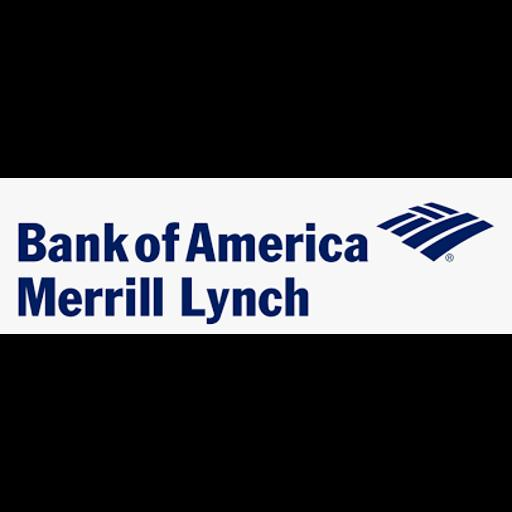Bank of America: (0, 178, 512, 334)
